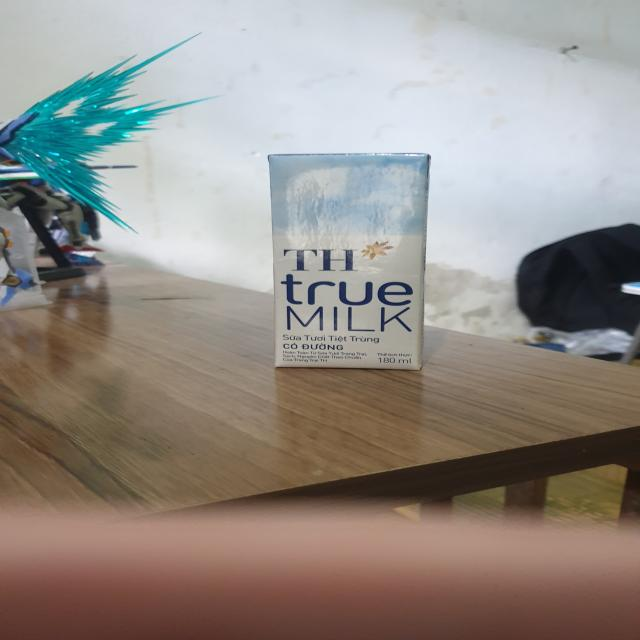TH: (270, 154, 424, 375)
